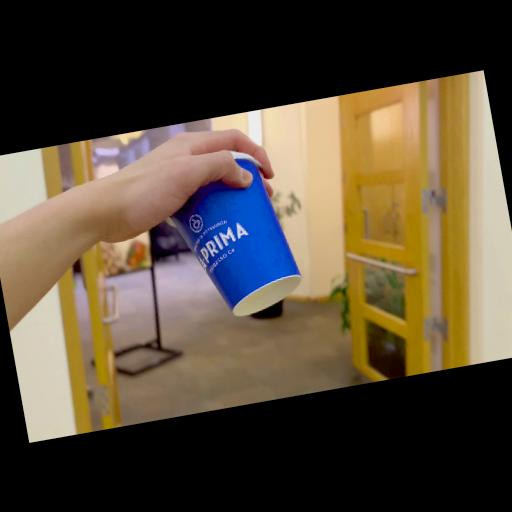lp_paper_cup: (142, 129, 354, 335)
